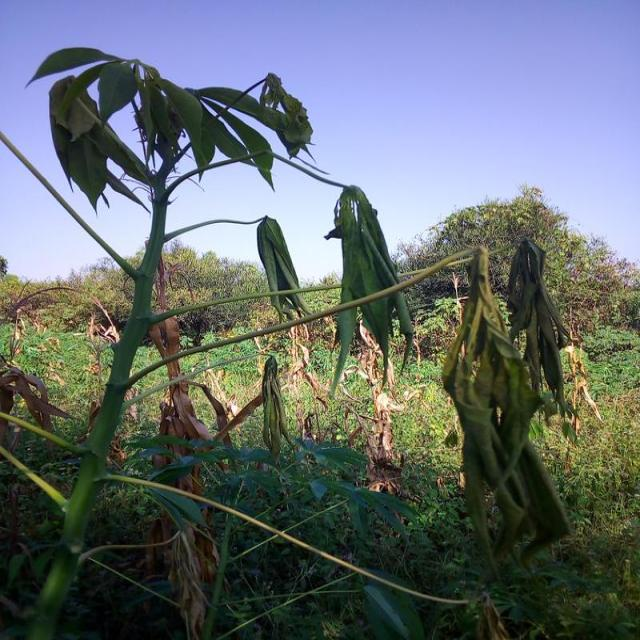cassava leaf: (441, 244, 573, 579), (324, 182, 414, 398), (255, 214, 312, 324)
